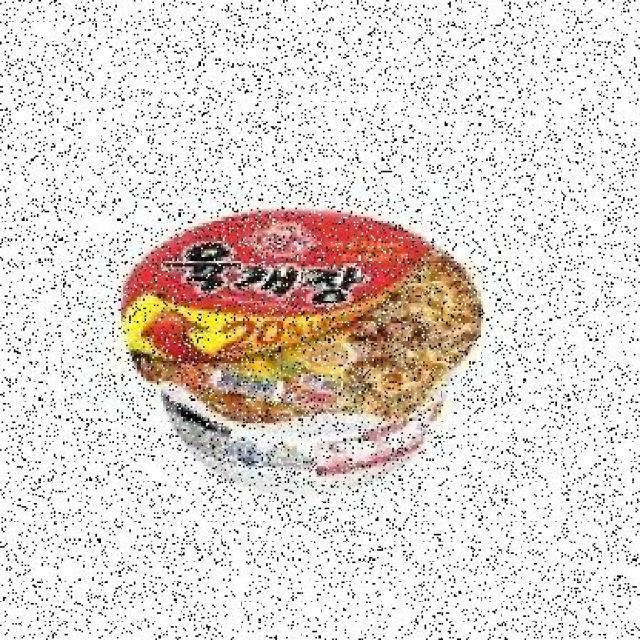Miscellaneous: (118, 208, 494, 506)
